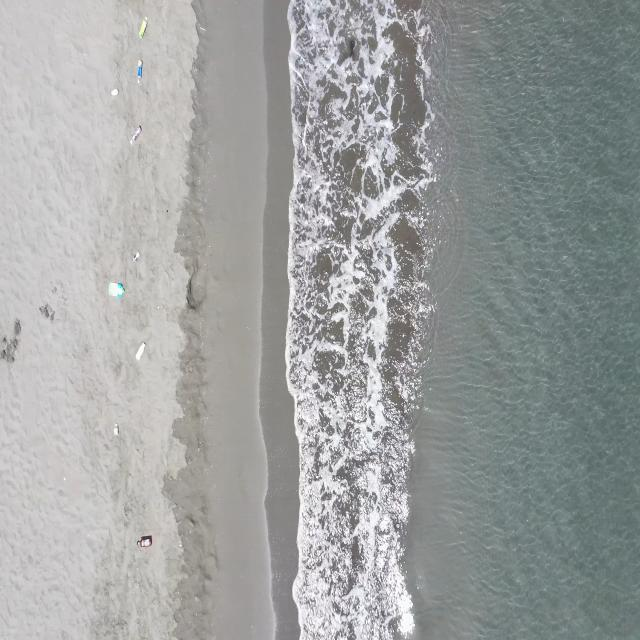Garbage: (0, 320, 19, 362), (39, 303, 54, 320), (108, 281, 123, 296), (129, 124, 140, 143), (136, 535, 151, 547), (135, 342, 144, 360), (140, 16, 147, 37), (136, 59, 141, 81), (131, 252, 139, 261), (112, 424, 118, 435), (111, 88, 117, 95)
